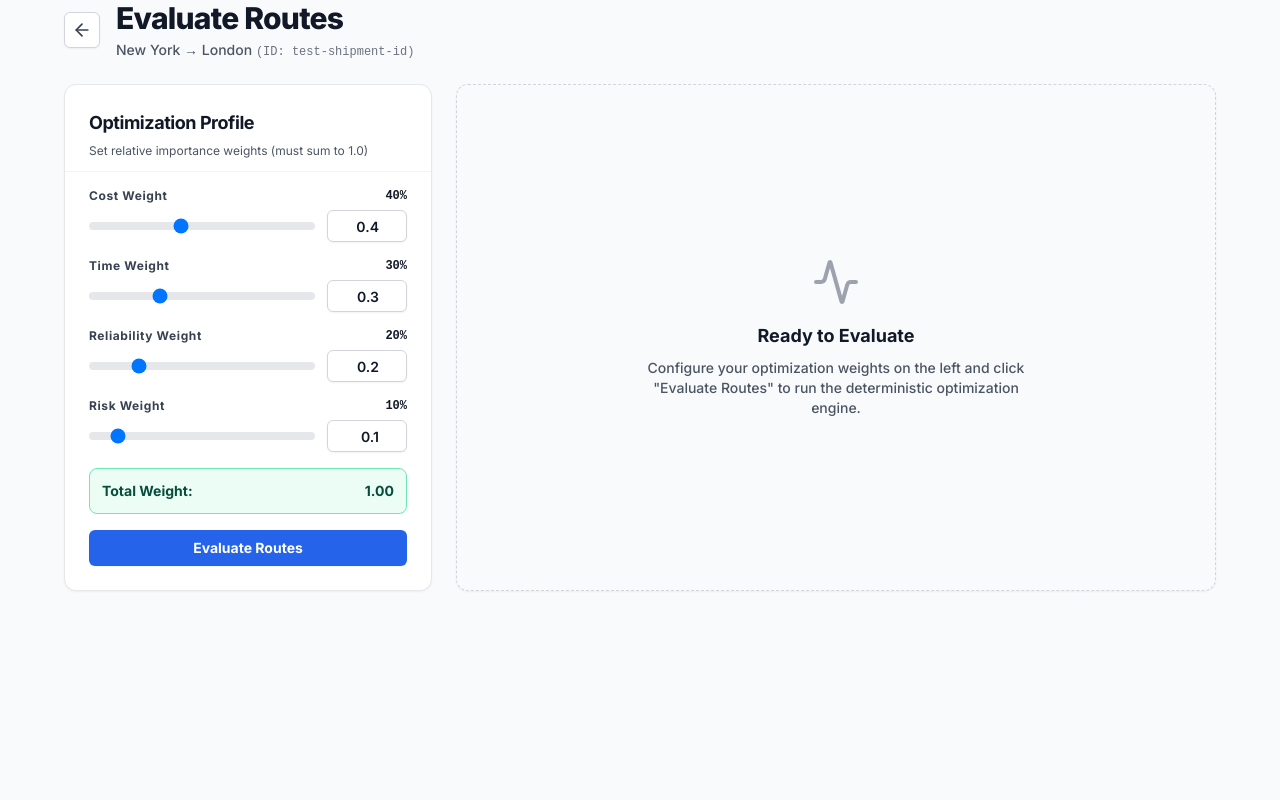
Test: EvaluatePage › handles successful optimization result rendering
What coordinates should you click on to do the following:
click the button "Evaluate Routes"
I would click on:
 (248, 548)
Its box is [89, 530, 407, 566].
(page scrolled)
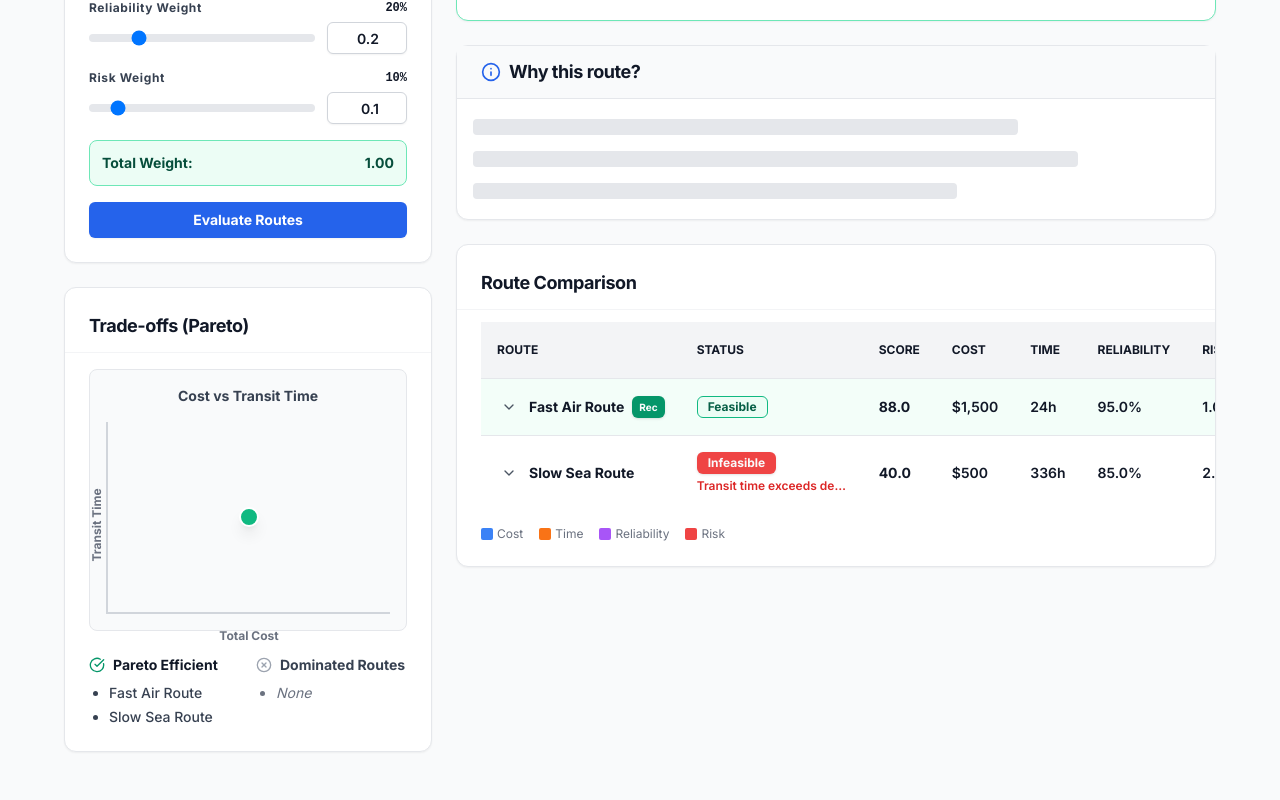
expect the list item "Fast Air Route" is shown: met, box [109, 684, 202, 701]
expect the list item "Slow Sea Route" is shown: met, box [109, 708, 213, 725]
expect the text "Transit time exceeds deadline" is shown: met, box [697, 478, 847, 494]
